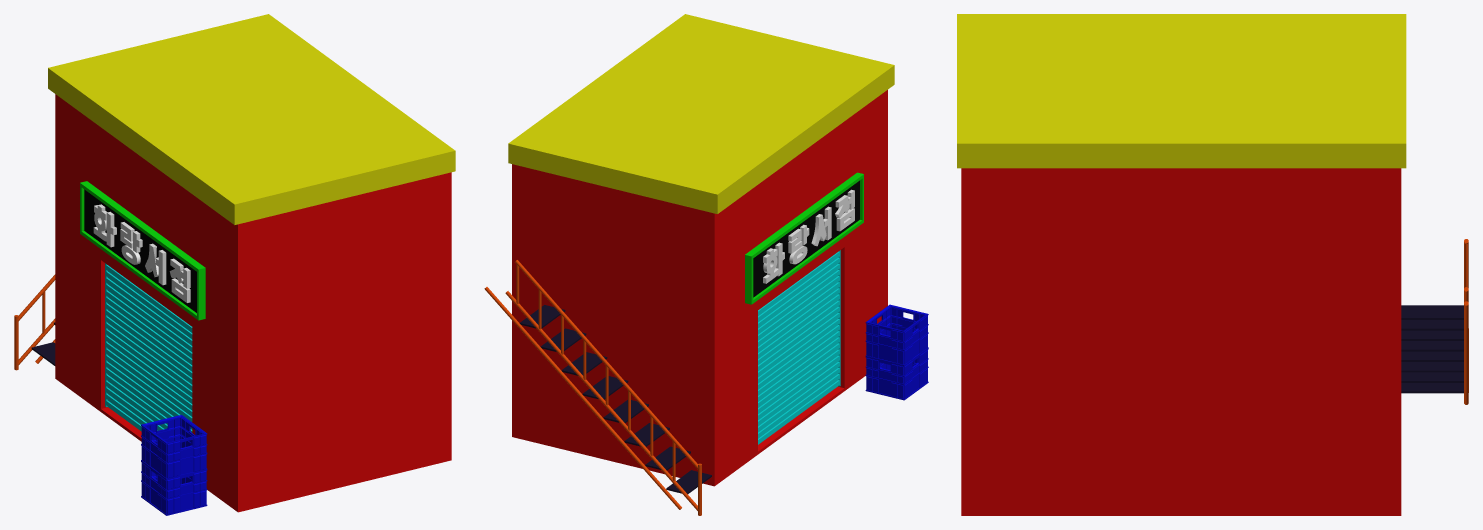
Rendered from Building_5.fbx.
3 views of the same model, side by side, from view 1: azimuth 30°, elevation 25°; view 2: azimuth 150°, elevation 25°; view 3: azimuth 270°, elevation 25° (orthographic). The views are drawn at different scales.
Visible parts, largest first — view 1: polySurface1363, polySurface1450, typeMesh10; view 2: polySurface1363, polySurface1450, typeMesh10; view 3: polySurface1363.
Part boxes in pixels (box(x1,y1,x2,y2)): polySurface1363: box(14, 14, 455, 515); polySurface1450: box(80, 181, 205, 320); typeMesh10: box(93, 204, 190, 302); polySurface1363: box(484, 14, 928, 515); polySurface1450: box(745, 172, 863, 304); typeMesh10: box(763, 189, 854, 283); polySurface1363: box(957, 14, 1468, 515).
Bounding box in the file's own units: 168 × 188 × 227.
